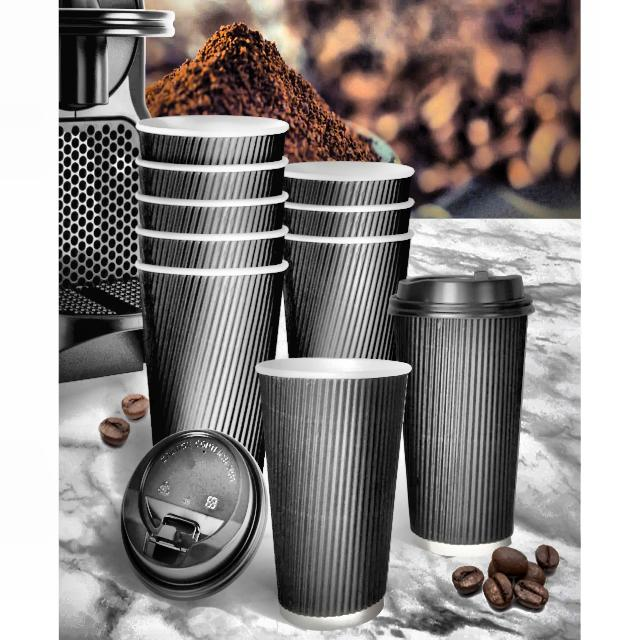Cup: (131, 108, 287, 496), (279, 155, 420, 466), (253, 349, 405, 625), (396, 267, 535, 553)
